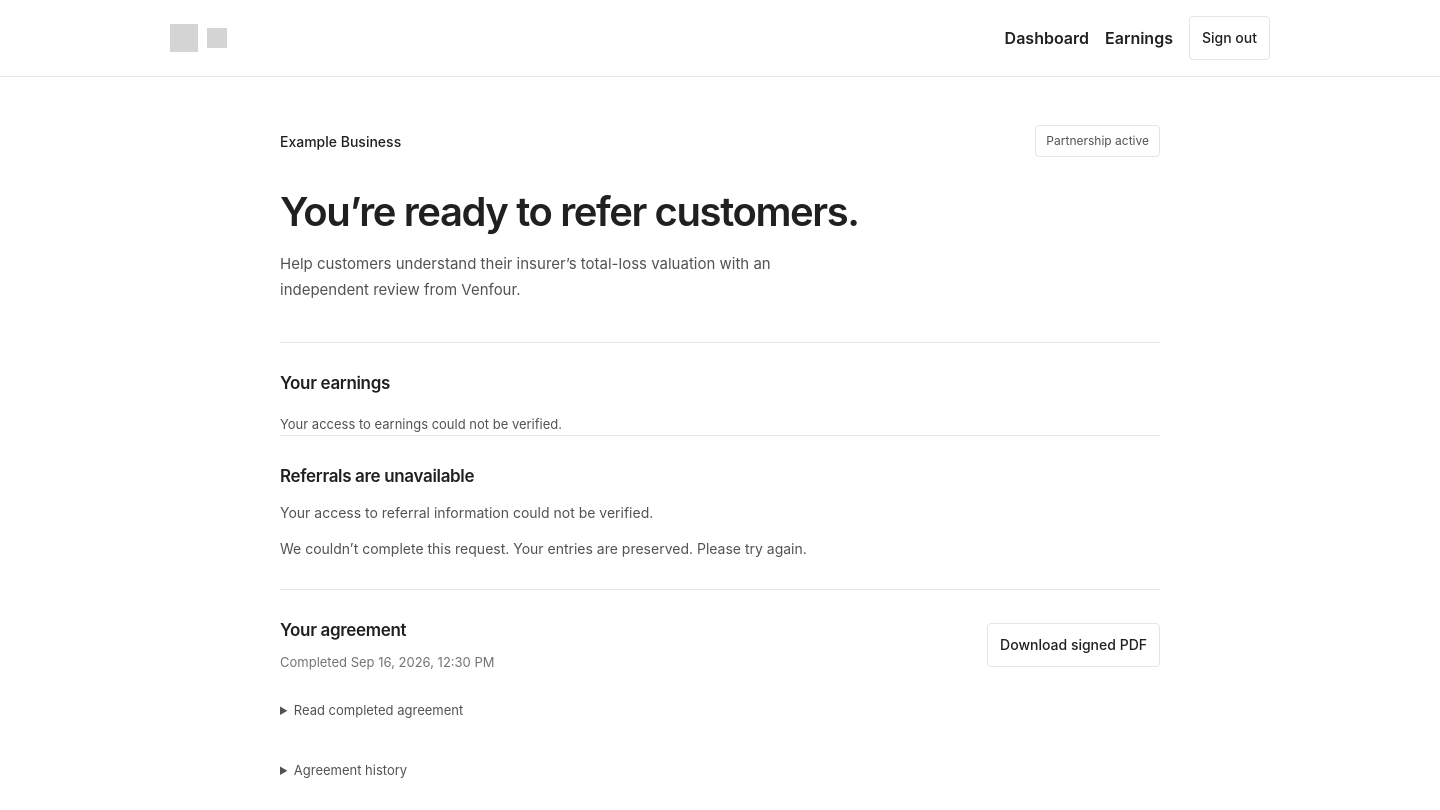
Test: referral onboarding › shows the active workspace with a ready agreement document
The image size is (1440, 810).
Check: the heading "You’re ready to refer customers." is shown, box [280,187,859,236]
Check: the text "Partnership active" is shown, box [1035,125,1160,157]
Click the heading "Read completed agreement". click: (378, 710)
box: [294,702,463,718]
(page scrolled)
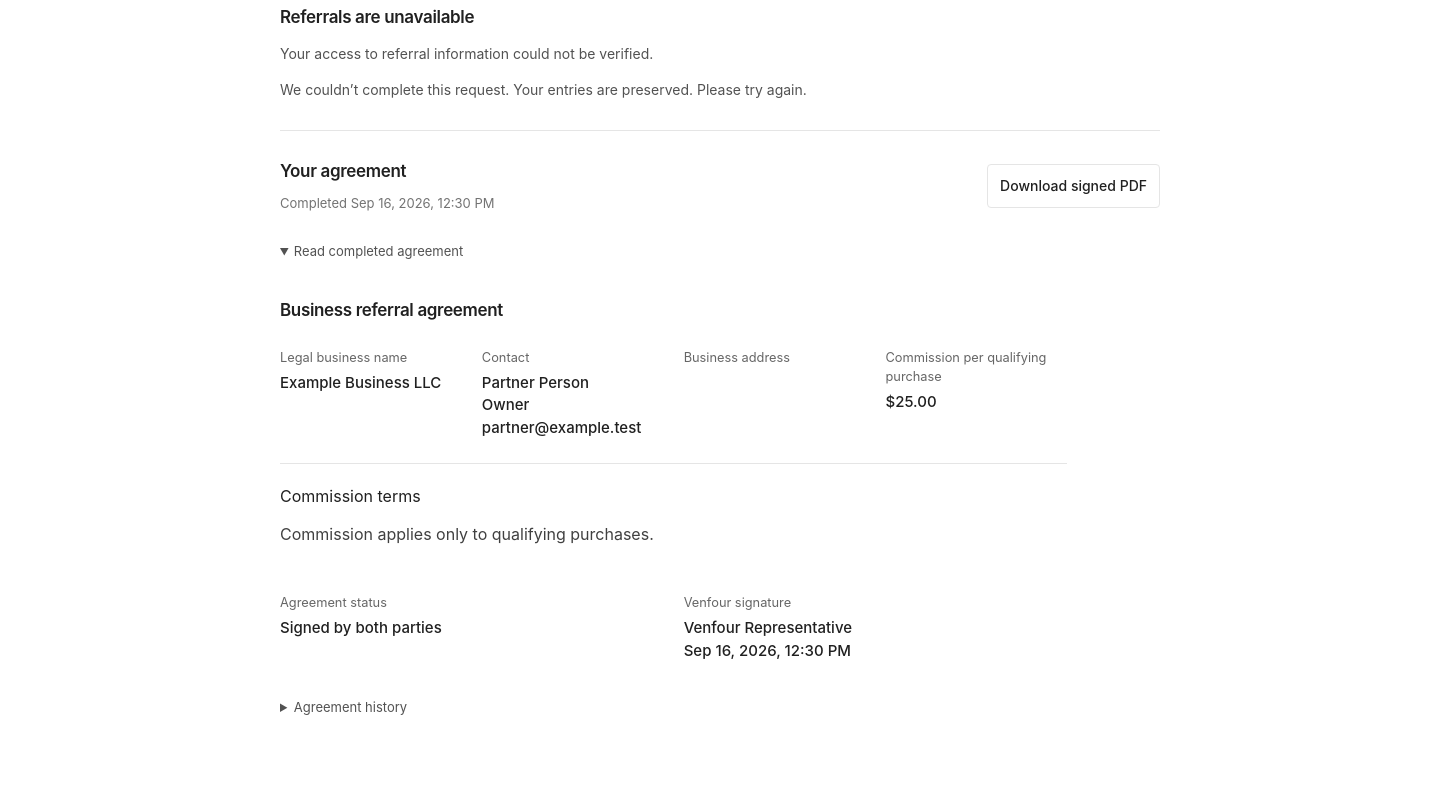
Check: the heading "Business referral agreement" is shown, box [280,300,503,320]
